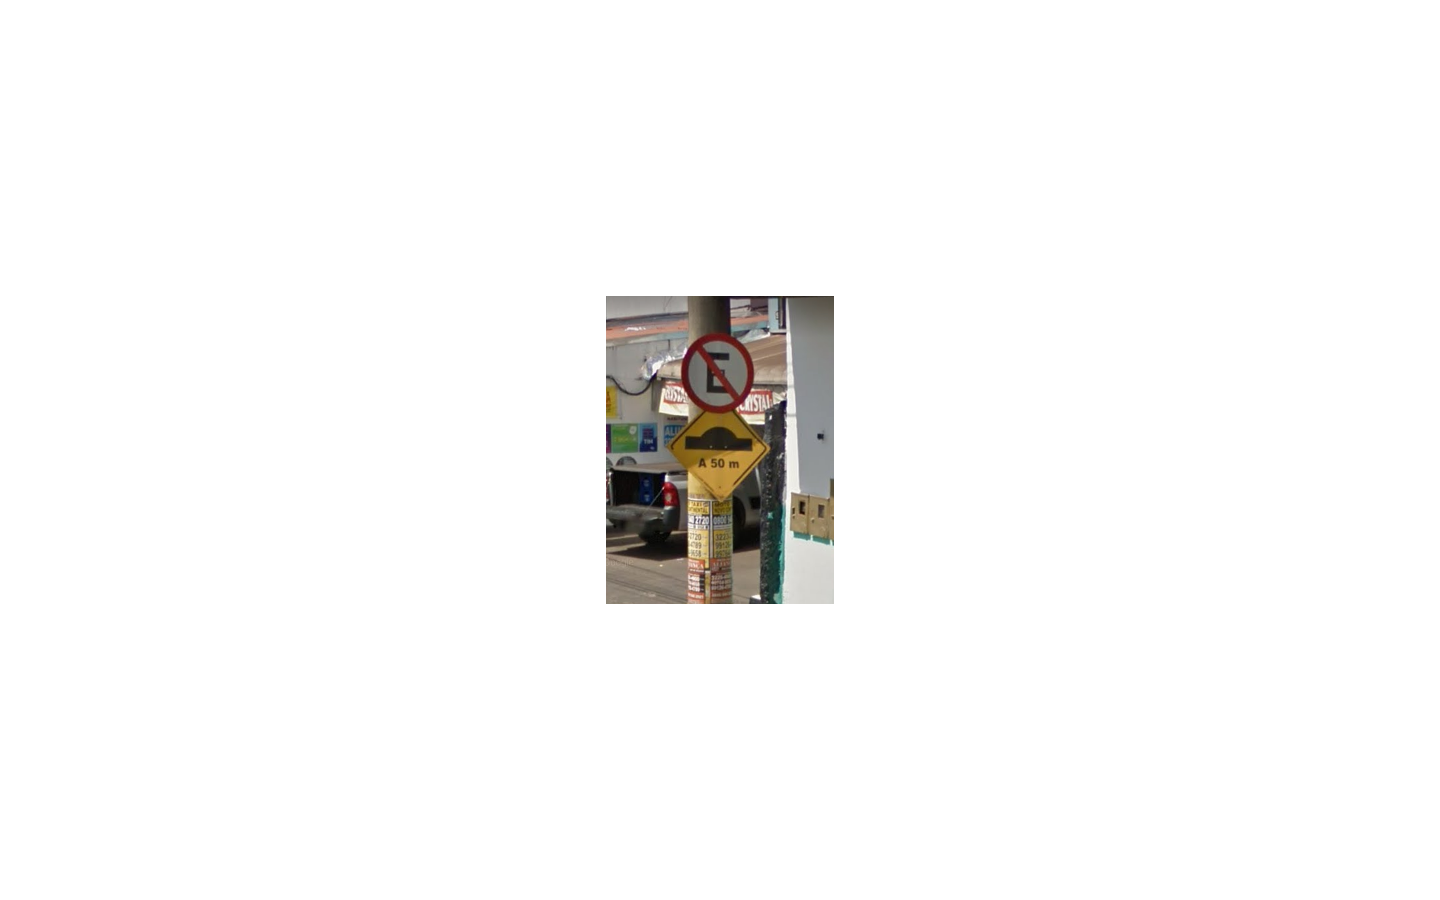l50m: (663, 411, 771, 503)
